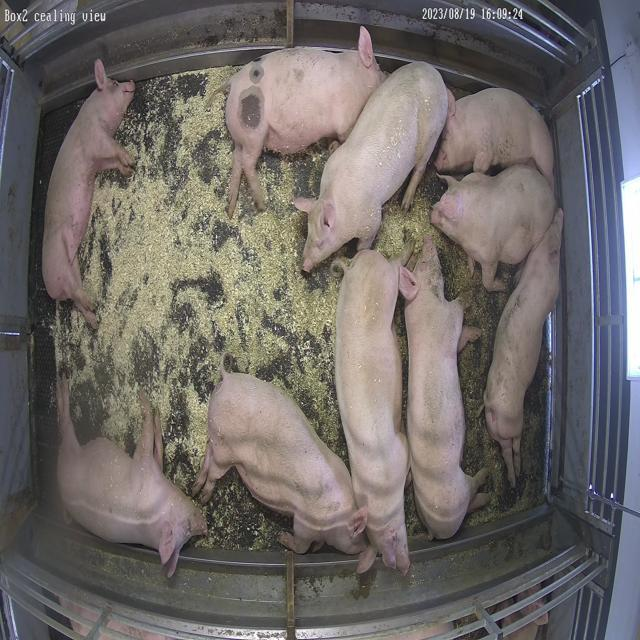Dirt: (433, 232, 550, 530), (406, 486, 427, 537)
Pig: (193, 367, 367, 555), (296, 63, 449, 272), (225, 26, 386, 216), (56, 382, 207, 578), (399, 237, 489, 540), (336, 233, 415, 576), (42, 59, 135, 328), (485, 209, 565, 488), (432, 165, 556, 292), (435, 88, 555, 186)
